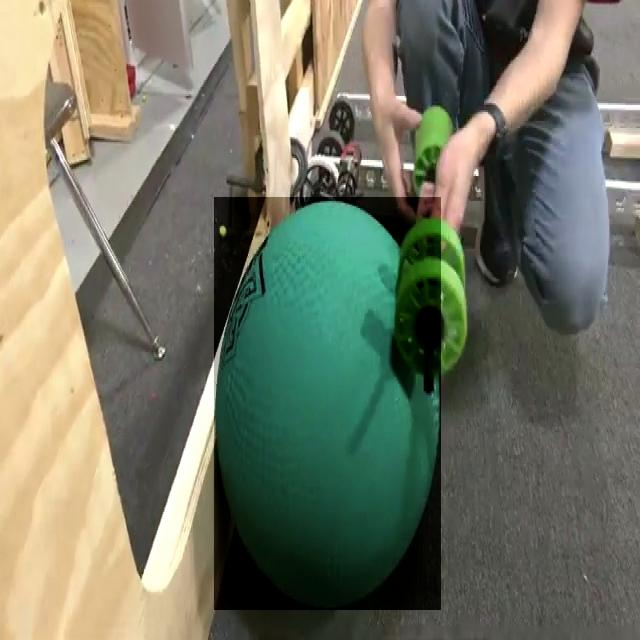Algae: (214, 197, 441, 610)
